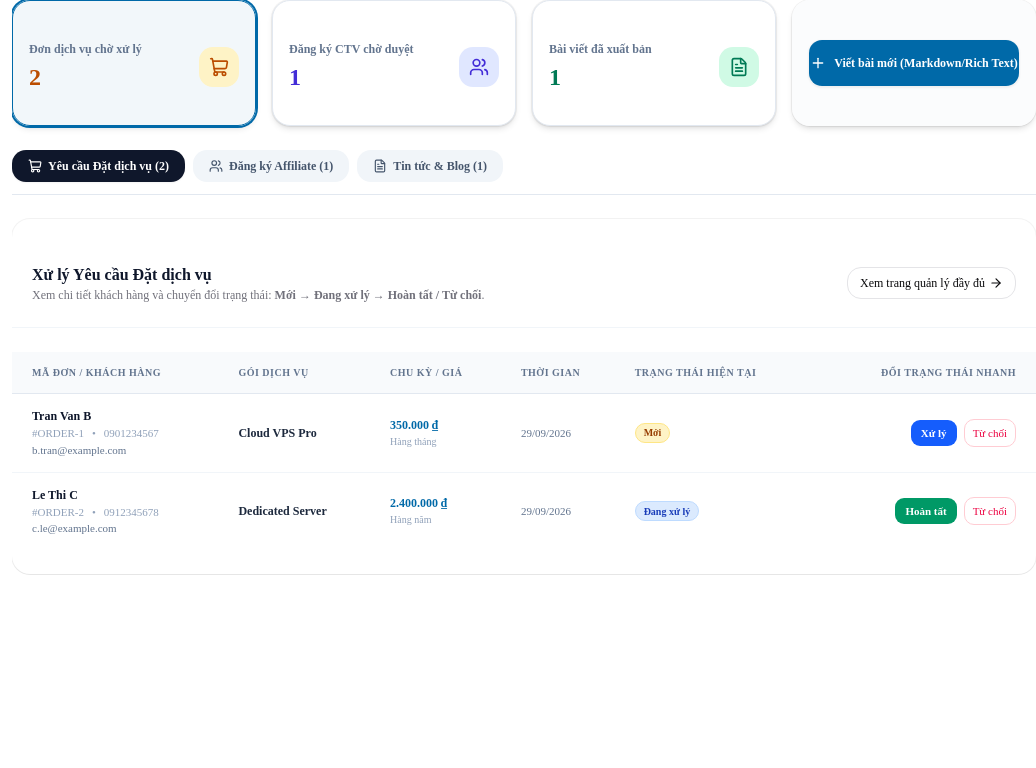
Test case: EditorWorkspaceView Component › should switch tabs to Affiliate registrations and News studio
// Switch to Affiliate Section
Click the button "Đăng ký Affiliate (1)" at x=271, y=166, box [193, 150, 349, 182]
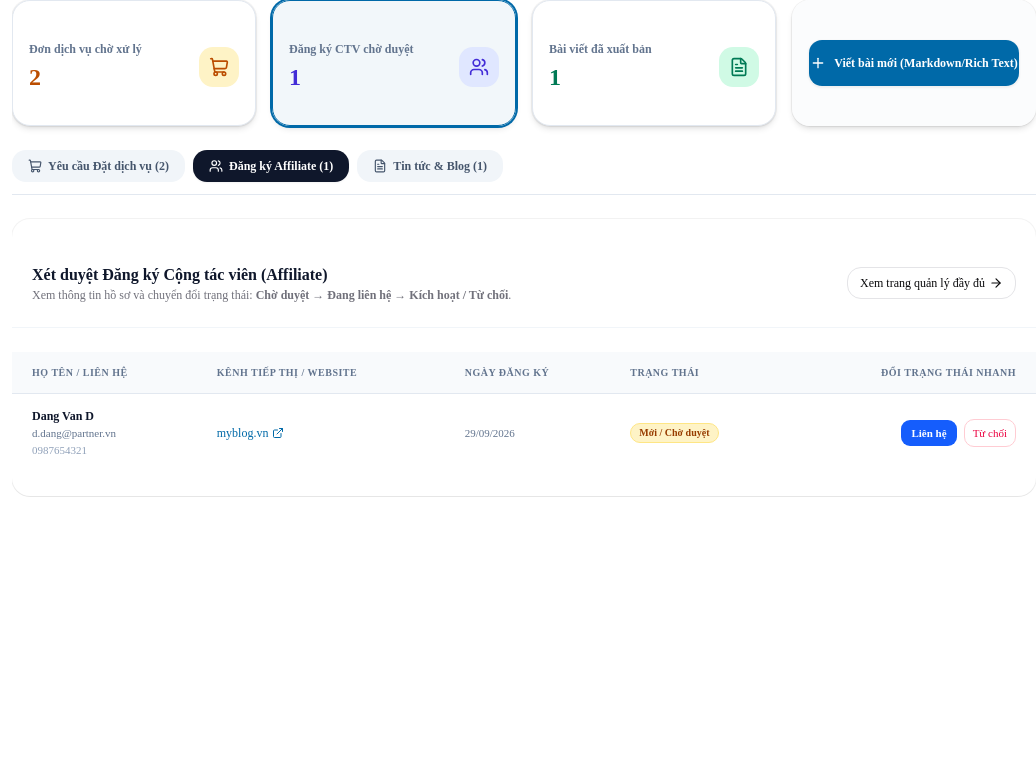
Check: the text "Dang Van D" is shown, box [32, 409, 94, 423]
Check: the text "d.dang@partner.vn" is shown, box [32, 427, 116, 439]
// Switch to News Section
Click the button "Tin tức & Blog (1)" at x=430, y=166, box [357, 150, 503, 182]
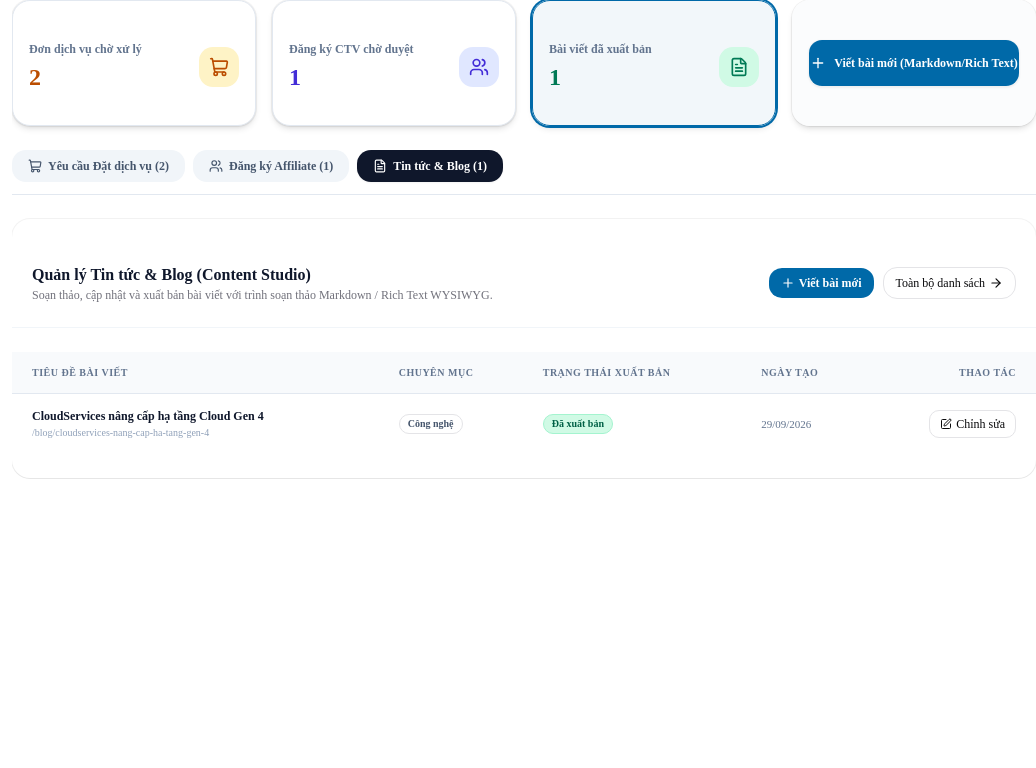
Check: the text "CloudServices nâng cấp hạ tầng Cloud Gen 4" is shown, box [32, 409, 264, 423]
